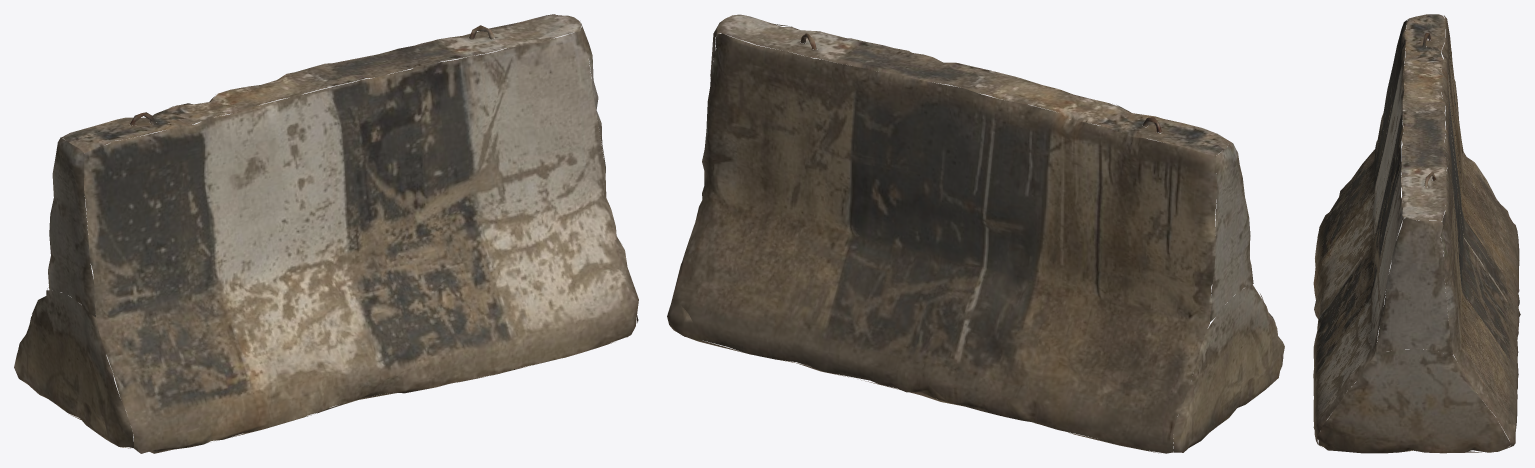
File: road-barrier.glb
The picture shows the model from 3 angles, left to right: view 1: azimuth 30°, elevation 25°; view 2: azimuth 150°, elevation 25°; view 3: azimuth 270°, elevation 25°; orthographic projection. The views are drawn at different scales.
Parts seen in each view (by area): view 1: road-barrier; view 2: road-barrier; view 3: road-barrier.
Part boxes in pixels (x1,y1,x2,y2): road-barrier: (14, 14, 638, 453); road-barrier: (667, 14, 1284, 453); road-barrier: (1313, 14, 1520, 453).
Bounding box in the file's own units: 1.54 × 0.8336 × 0.6358.
1 material, 1 textured.
